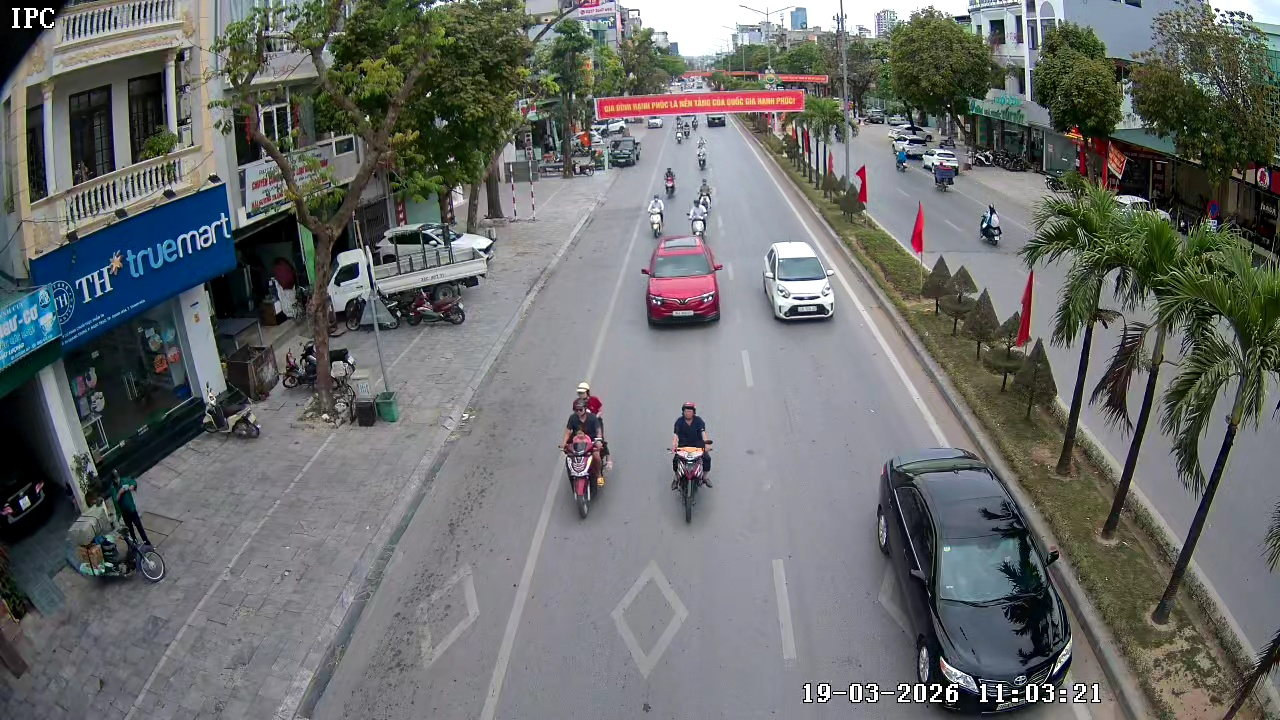bike: (666, 400, 718, 525)
car: (874, 447, 1080, 711), (639, 236, 724, 327), (761, 239, 836, 322)
motorbike: (666, 400, 716, 526), (557, 410, 608, 521), (977, 201, 1005, 250), (646, 193, 667, 239), (687, 196, 709, 237), (662, 161, 679, 200), (697, 177, 714, 213), (694, 139, 710, 173), (673, 122, 689, 147)
truck: (608, 128, 643, 167)
